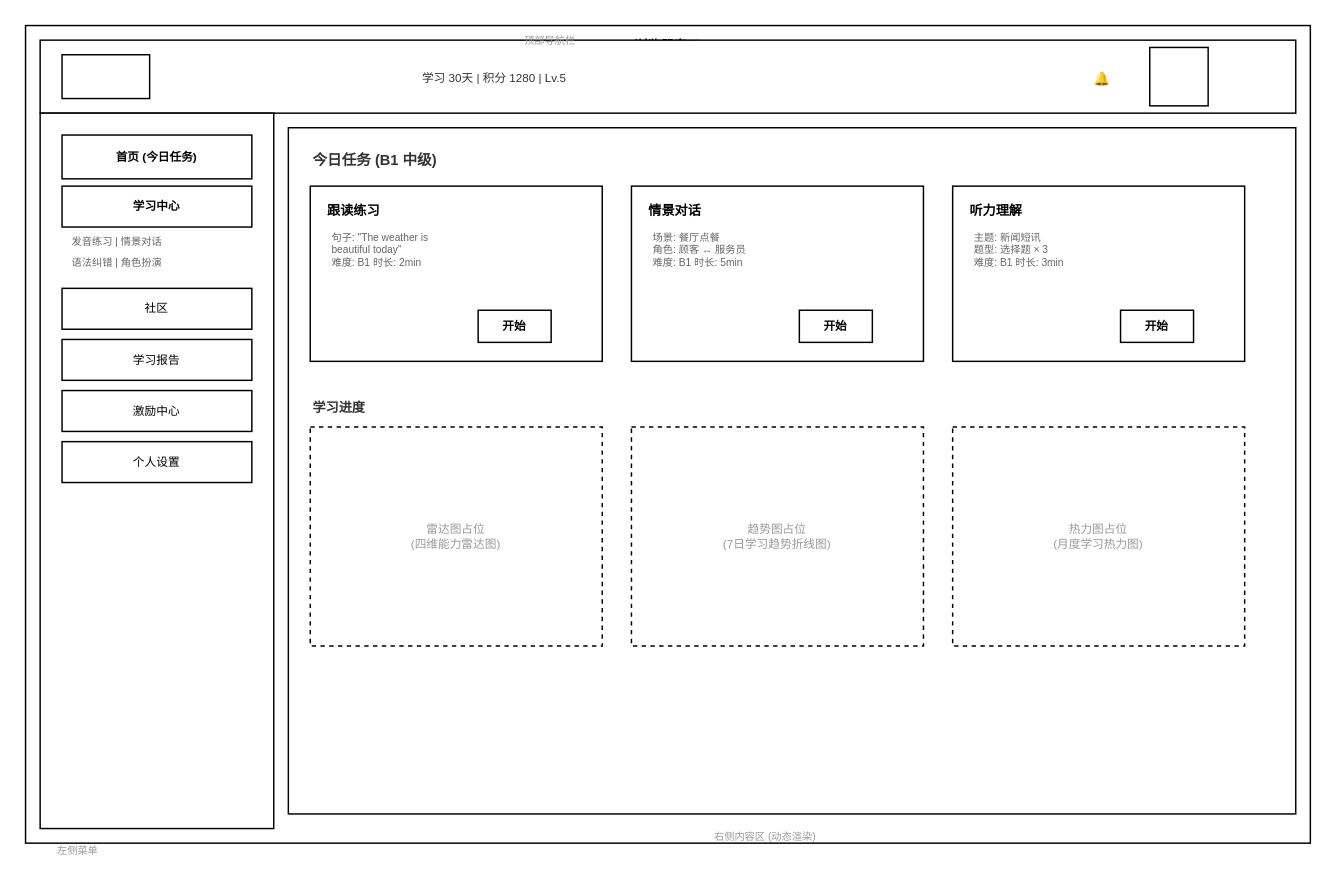
This 1336x883 diagram has some shape labels left out. The shapes that lost their labels are listed below. From the top down, each one's box as (x1, y1, x2, y2) in pixels, then its label:
(61, 53, 150, 99): Logo
(1148, 46, 1208, 106): 头像
